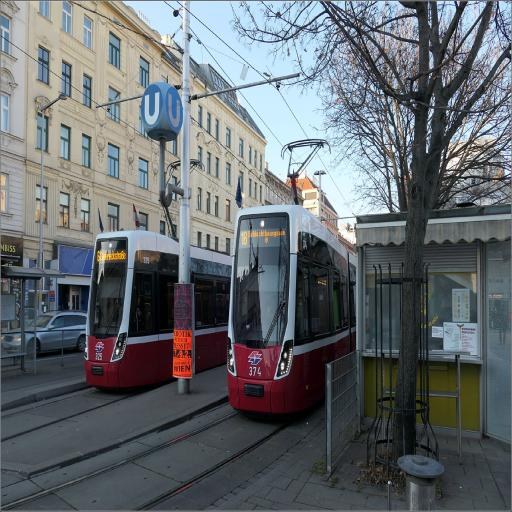Flexity: (227, 204, 355, 409), (83, 230, 230, 388)
